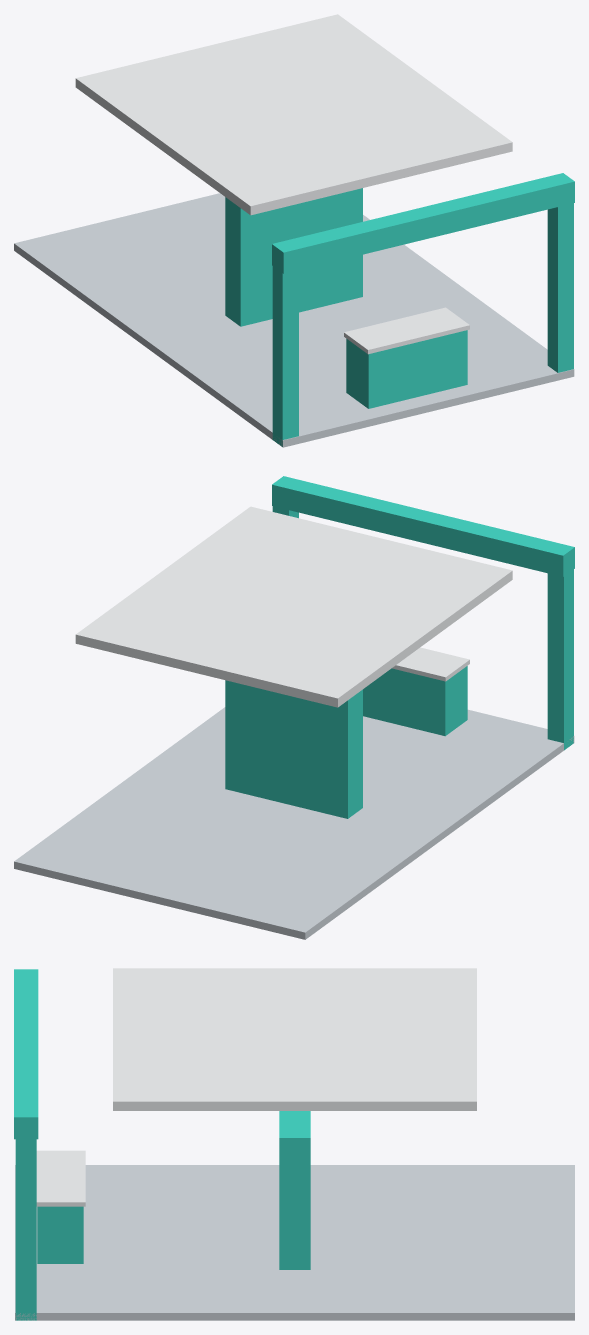
3 renders of one model, top to bottom at view 1: azimuth 30°, elevation 25°; view 2: azimuth 150°, elevation 25°; view 3: azimuth 270°, elevation 25°, orthographic. The views are drawn at different scales.
Visible parts, largest first — view 1: Exhibition Booth Concept; view 2: Exhibition Booth Concept; view 3: Exhibition Booth Concept.
Boxes of the visible parts, <box> form: Exhibition Booth Concept: <box>14,14,574,447</box>; Exhibition Booth Concept: <box>14,476,574,939</box>; Exhibition Booth Concept: <box>14,968,574,1320</box>.
Size of the model in its own units: 5 by 3.34 by 8.01.
